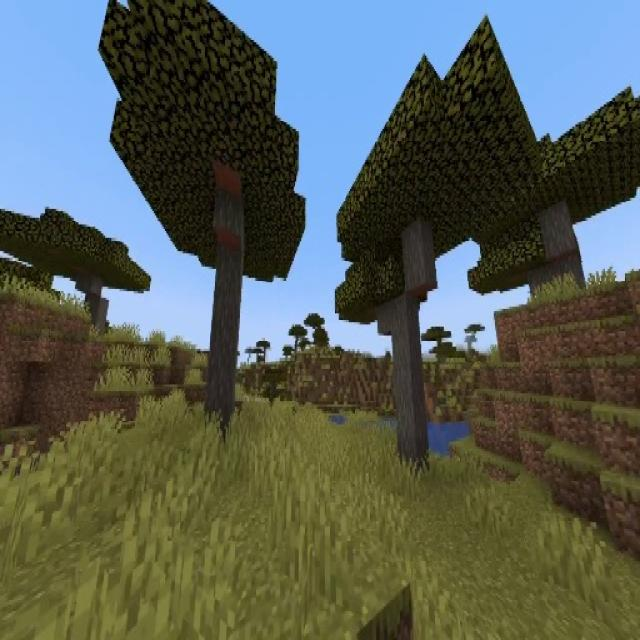acacia: (99, 0, 308, 449), (334, 19, 522, 468), (466, 92, 640, 301), (33, 221, 149, 339)
acacia_log: (394, 225, 434, 471), (208, 172, 242, 428), (542, 209, 581, 301)
